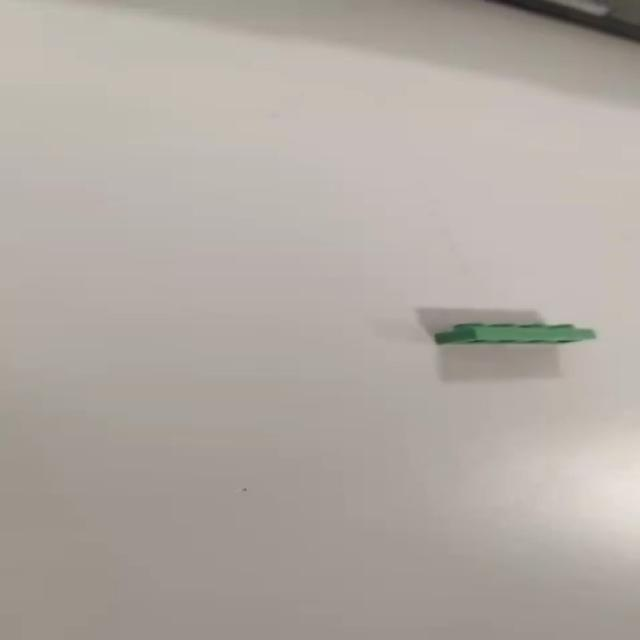C4x1x0: (422, 310, 595, 346)
